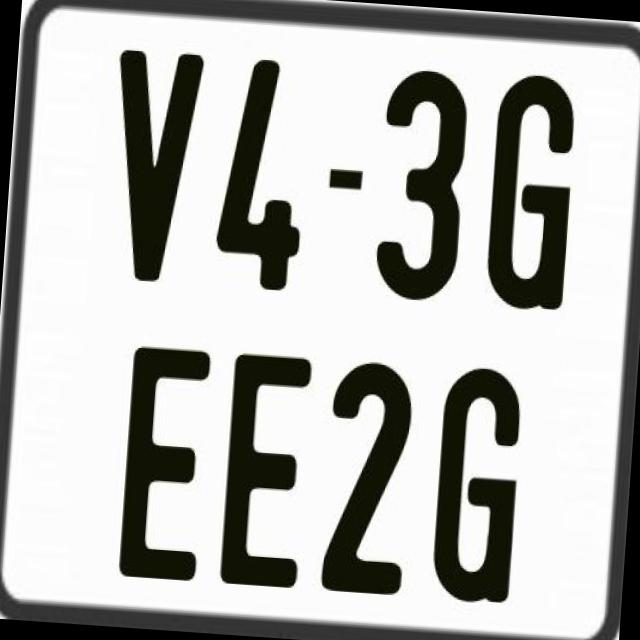2: (316, 354, 418, 598)
3: (371, 68, 468, 302)
4: (212, 57, 315, 300)
E: (114, 340, 214, 584), (215, 350, 316, 590)
G: (480, 71, 582, 310), (429, 362, 528, 608)
V: (104, 46, 205, 286)
